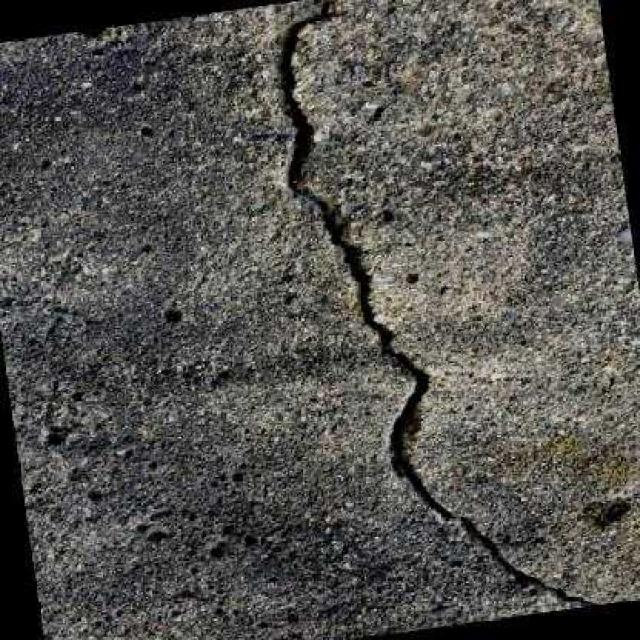D00: (267, 0, 615, 607)
